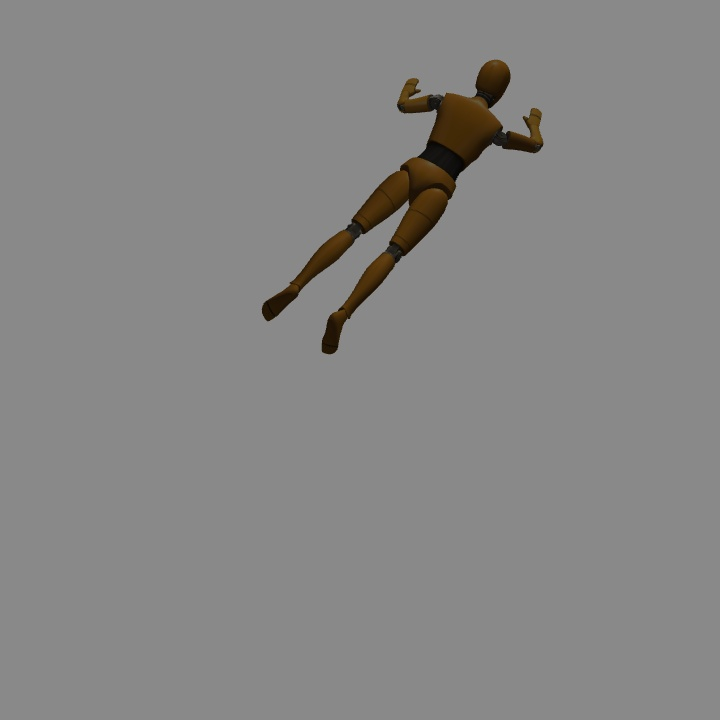victim: (266, 58, 508, 353)
